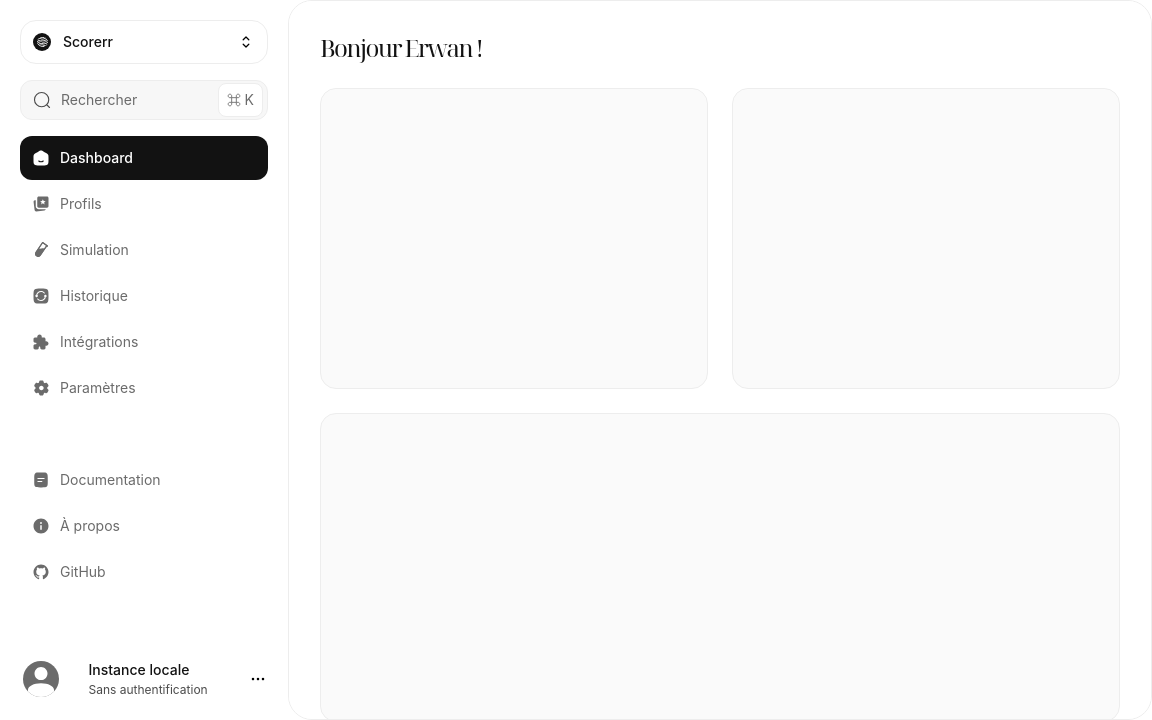
Test: App routing and shell › navigates with the sidebar and renders placeholders
Click the link "Simulation" at (82, 250), box [35,241,129,258]
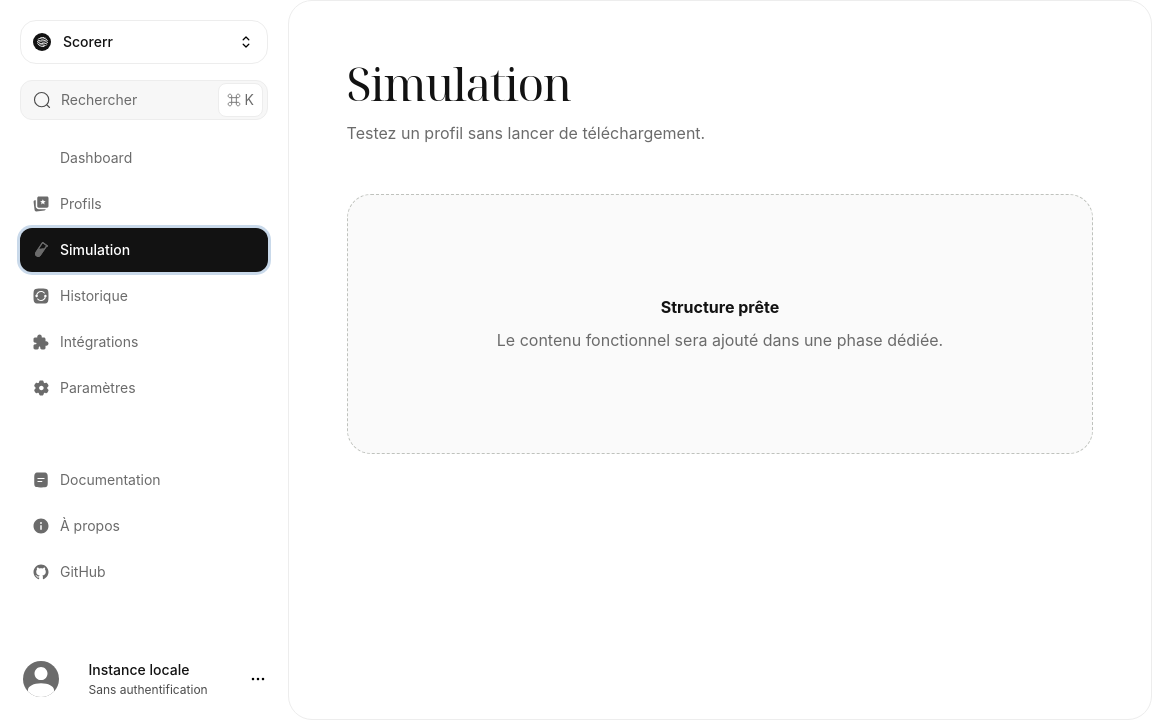
Expected: the heading "Simulation" is shown, [347,52,571,115]
Expected: the text "Structure prête" is shown, [661,295,779,320]
